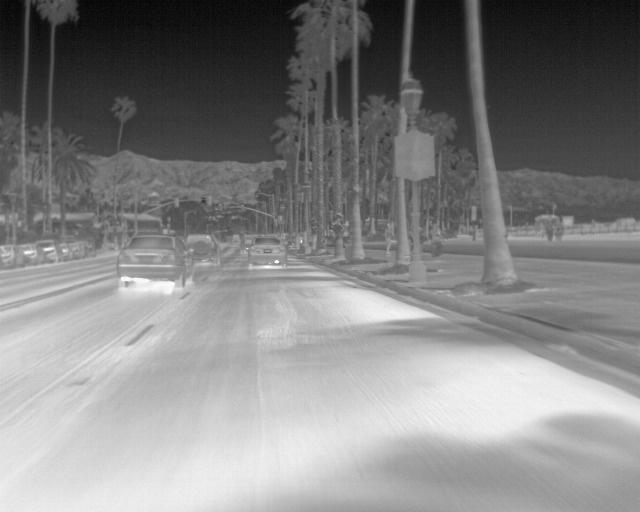bicycle: (118, 233, 193, 289), (246, 236, 286, 269), (186, 230, 222, 262), (1, 243, 22, 271), (36, 238, 60, 262), (17, 242, 38, 265)
